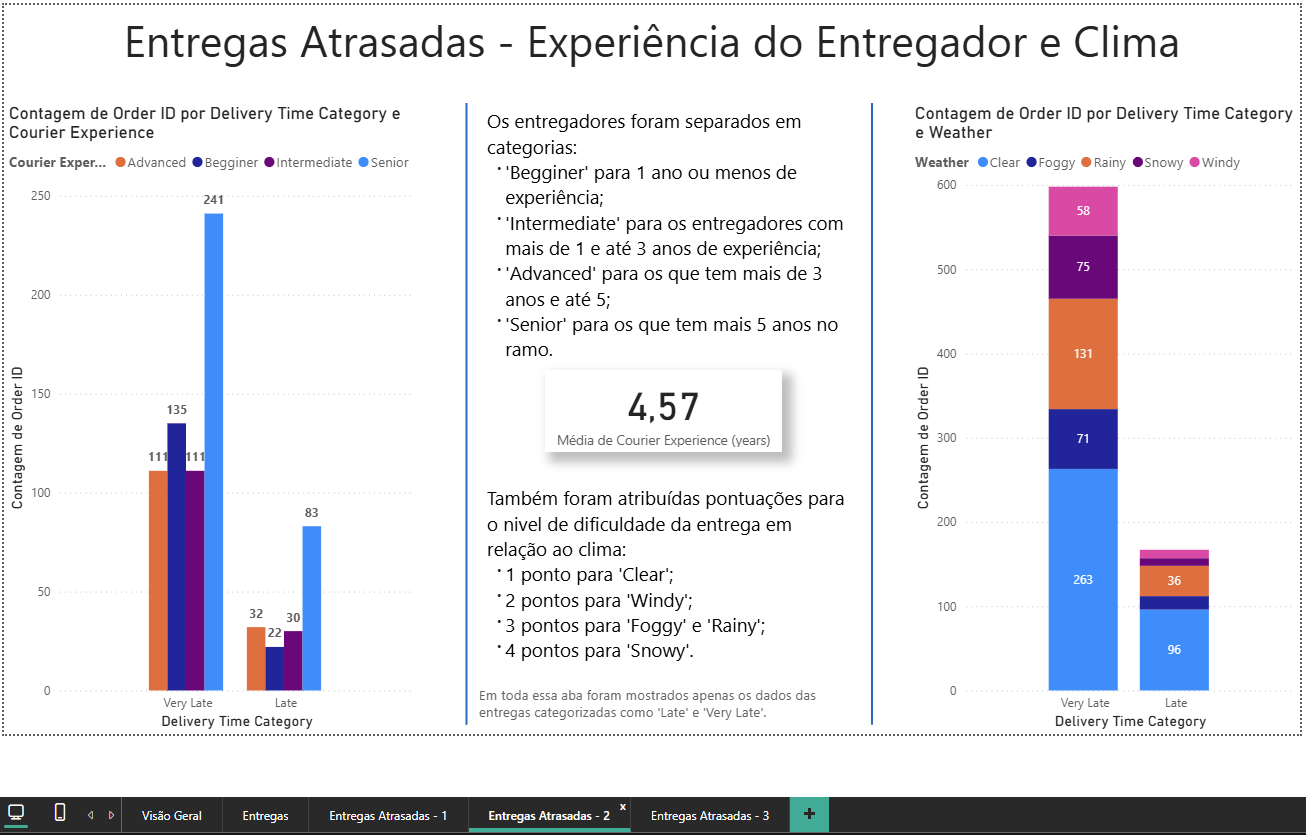

The page's visual inventory and layout, read from the dashboard file:
{"tool":"powerbi","page":{"name":"Entregas Atrasadas - 2","canvas":[1280,720],"ordinal":3},"visuals":[{"type":"lineClusteredColumnComboChart","fields":{"Y":["CountNonNull(df_food_delivery.Order ID)"],"Category":["df_food_delivery.Delivery Time Category"],"Series":["df_food_delivery.Courier Experience"]},"box":[0,96.5,409.3,623.6],"z":0},{"type":"columnChart","fields":{"Y":["CountNonNull(df_food_delivery.Order ID)"],"Category":["df_food_delivery.Delivery Time Category"],"Series":["df_food_delivery.Weather"]},"box":[895,96.5,385,623.6],"z":1000},{"type":"textbox","box":[0,0,1280,70.1],"z":2000},{"type":"textbox","box":[472.1,96.8,367.4,263.7],"z":3000},{"type":"card","fields":{"Values":["Avg(df_food_delivery.Courier Experience (years))"]},"box":[534.3,360.5,234.1,81],"z":4000},{"type":"textbox","box":[464.2,667.7,393.1,52.3],"z":5000},{"type":"textbox","box":[472.1,469.1,367.4,198.5],"z":6000},{"type":"shape","box":[839.5,96.8,35.6,614.3],"z":6001},{"type":"shape","box":[441.5,96.8,30.6,614.3],"z":6002}]}

Visuals, with their boxes on the page's 1280x720 design canvas (x1, y1, x2, y2). These are canvas units, not pixel positions in the 1306x835 screenshot, which may show the page scaled, cropped or inside an application window:
lineClusteredColumnComboChart - CountNonNull(df_food_delivery.Order ID) x df_food_delivery.Delivery Time Category: [left=0, top=96, right=409, bottom=720]
columnChart - CountNonNull(df_food_delivery.Order ID) x df_food_delivery.Delivery Time Category: [left=895, top=96, right=1280, bottom=720]
textbox: [left=0, top=0, right=1280, bottom=70]
textbox: [left=472, top=97, right=840, bottom=360]
card - Avg(df_food_delivery.Courier Experience (years)): [left=534, top=360, right=768, bottom=442]
textbox: [left=464, top=668, right=857, bottom=720]
textbox: [left=472, top=469, right=840, bottom=668]
shape: [left=840, top=97, right=875, bottom=711]
shape: [left=442, top=97, right=472, bottom=711]
